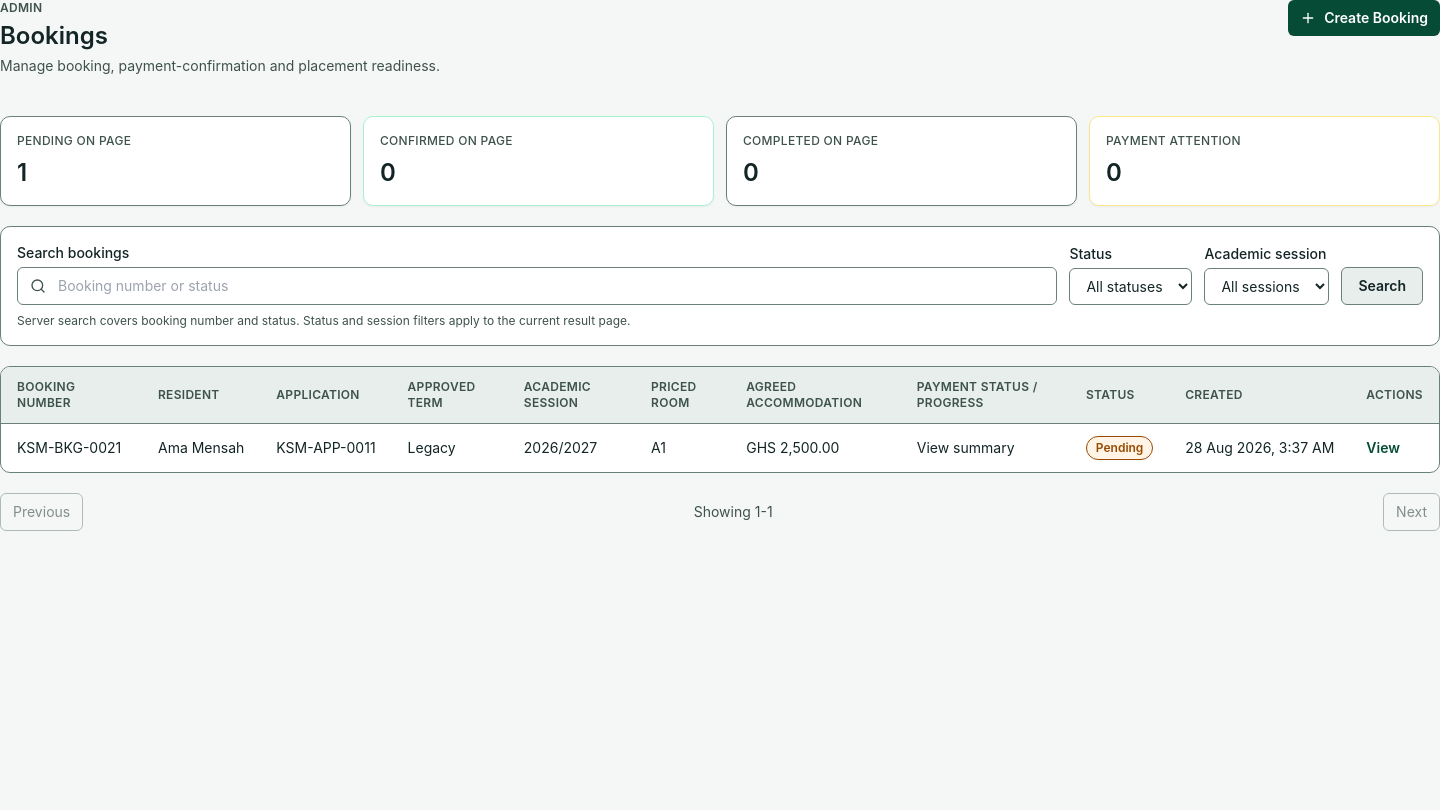
Test: BookingsPage › does not present confirm when payment threshold is insufficient
The width and height of the screenshot is (1440, 810).
Click the button "View". click: click(1383, 448)
box: top-left (1366, 438), bottom-right (1400, 458)
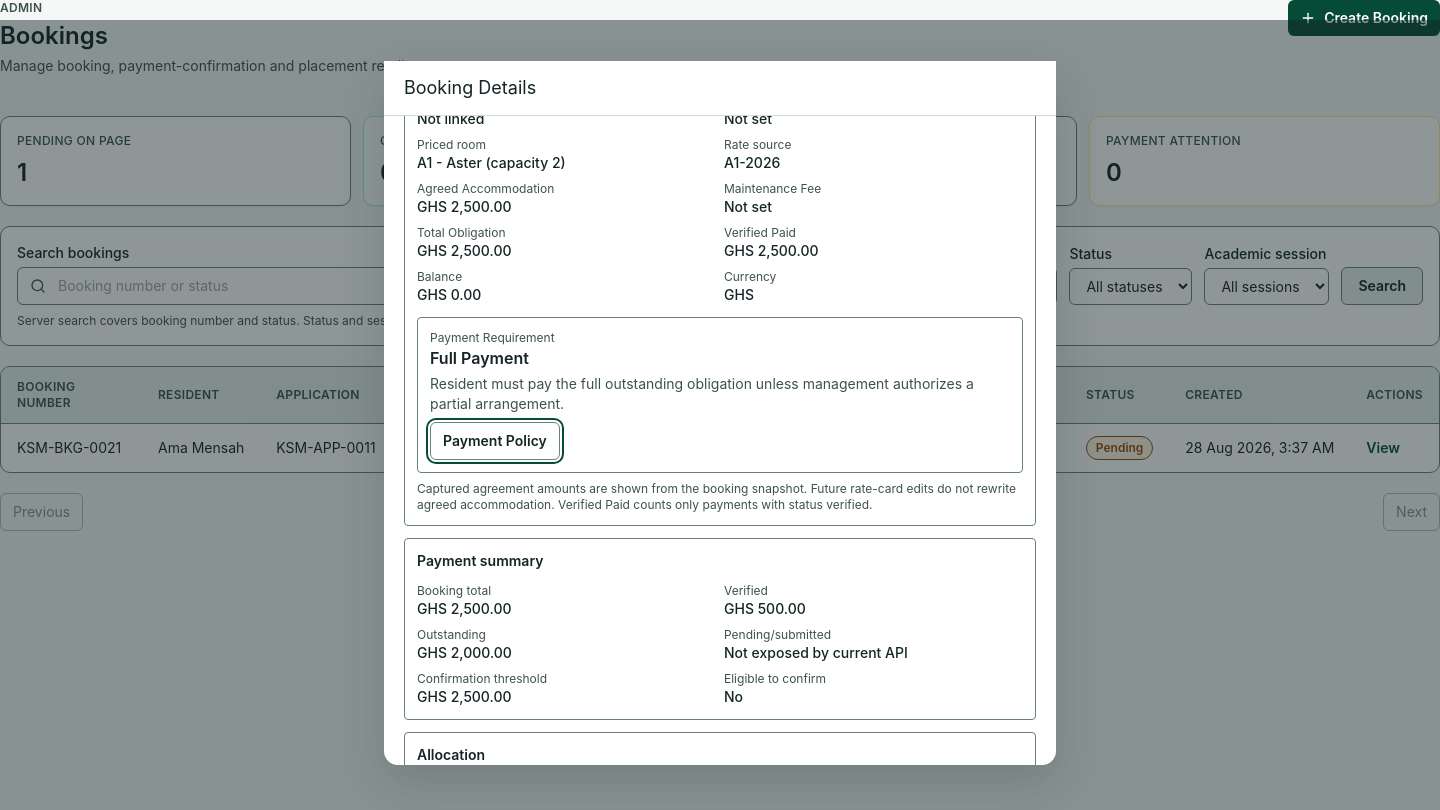
expect the text "No" is shown: met, box top-left (724, 688), bottom-right (743, 704)
